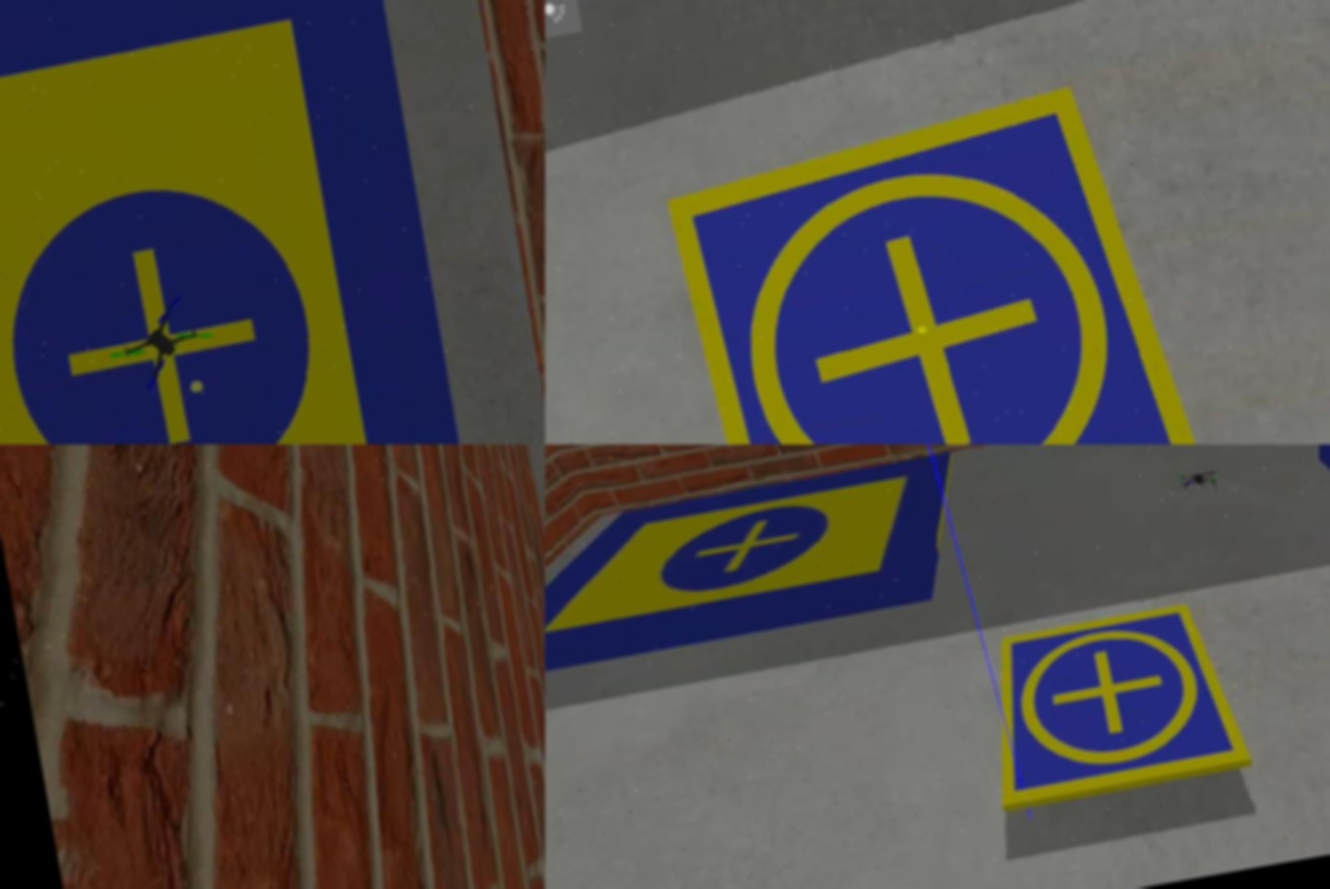large_base: (1, 1, 473, 445), (545, 450, 974, 687)
small_base: (657, 74, 1223, 445), (976, 595, 1257, 812)
